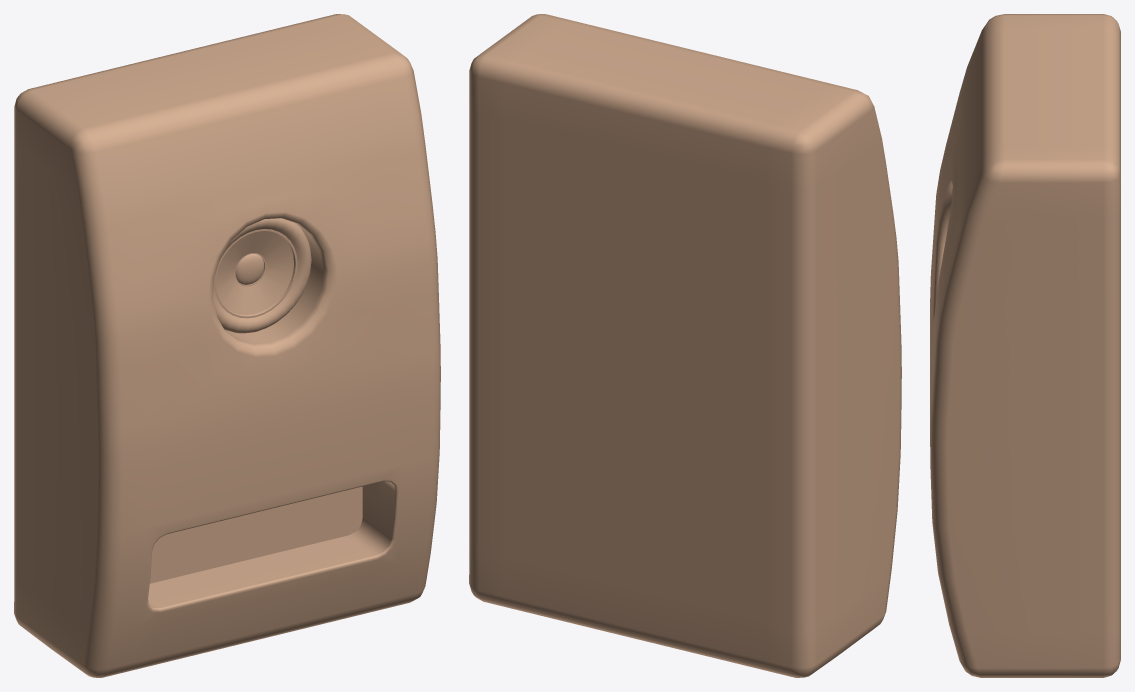
File: Petzi.fbx
3 views of the same model, side by side, from view 1: azimuth 30°, elevation 25°; view 2: azimuth 150°, elevation 25°; view 3: azimuth 270°, elevation 25° (orthographic). The views are drawn at different scales.
Parts seen in each view (by area): view 1: mesh_petzi; view 2: mesh_petzi; view 3: mesh_petzi.
Part boxes in pixels (x1,y1,x2,y2): mesh_petzi: [14, 14, 440, 677]; mesh_petzi: [469, 14, 901, 677]; mesh_petzi: [930, 14, 1120, 677].
Size of the model in its own units: 21.79 by 33 by 11.04.
